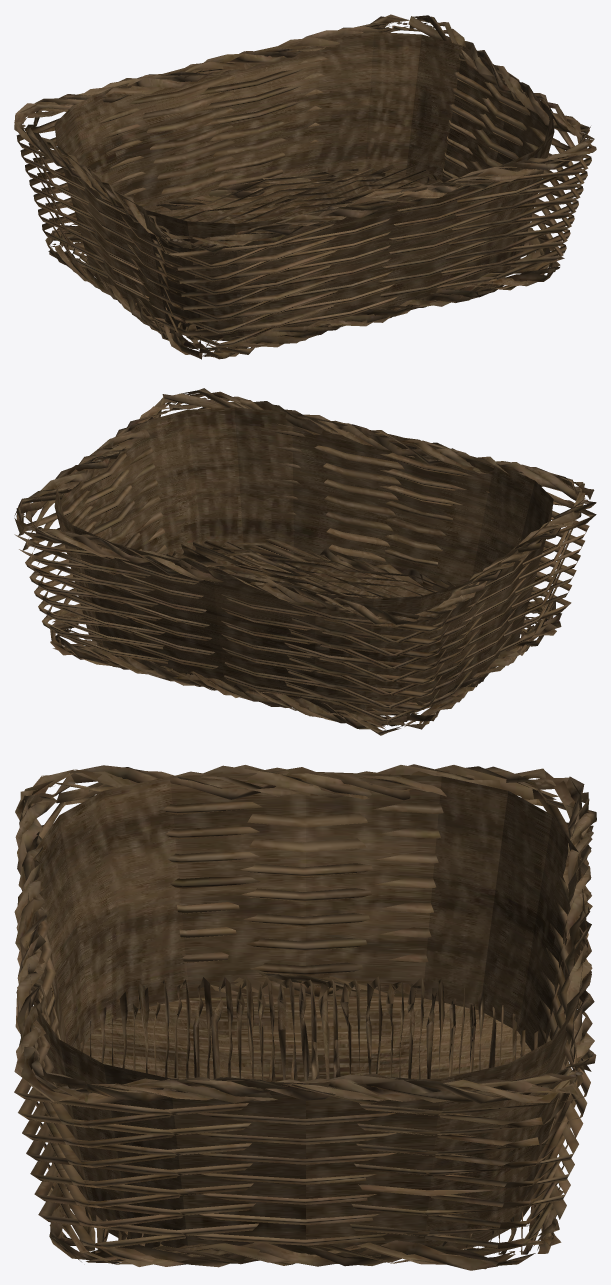
Rendered from ph_wicker_basket_01_hi.glb.
The picture shows the model from 3 angles, top to bottom: view 1: azimuth 30°, elevation 25°; view 2: azimuth 150°, elevation 25°; view 3: azimuth 270°, elevation 25°; orthographic projection. The views are drawn at different scales.
Parts seen in each view (by area): view 1: wicker_basket_01; view 2: wicker_basket_01; view 3: wicker_basket_01.
Part boxes in pixels (left/top/right/bottom): wicker_basket_01: left=14, top=14, right=596, bottom=359; wicker_basket_01: left=14, top=388, right=596, bottom=735; wicker_basket_01: left=14, top=764, right=596, bottom=1270.
Size of the model in its own units: 0.3837 by 0.1186 by 0.2934.
1 material, 1 textured.
